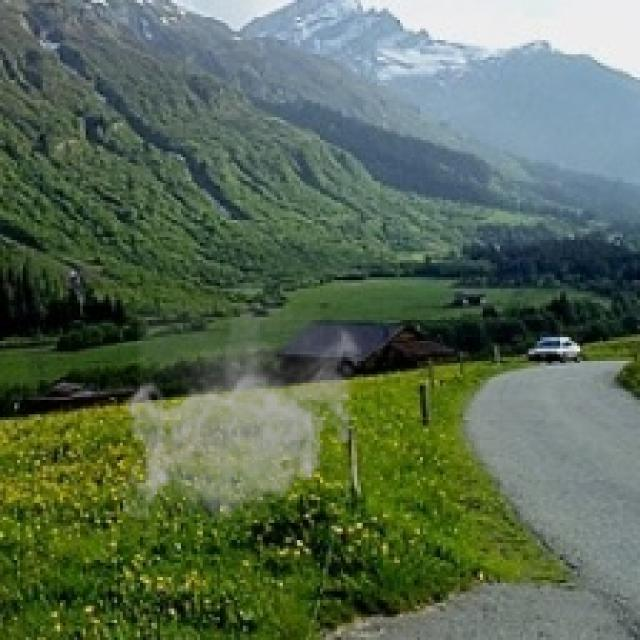smoke: (123, 303, 368, 531)
